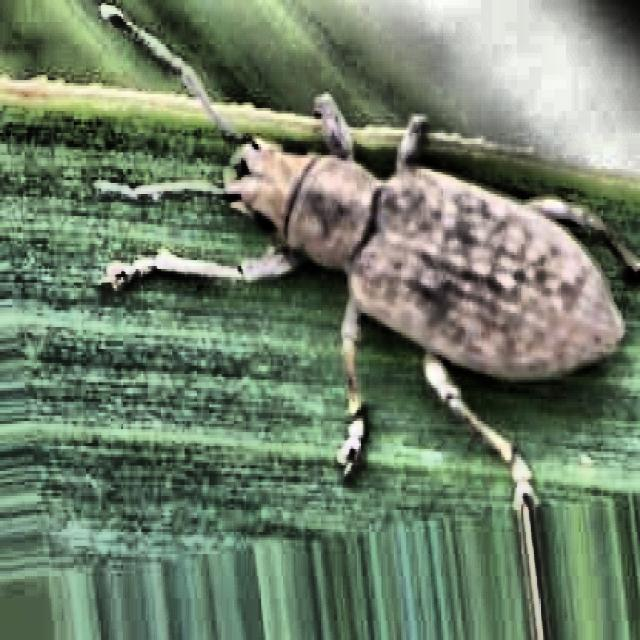Stink bug: (159, 28, 632, 476)
